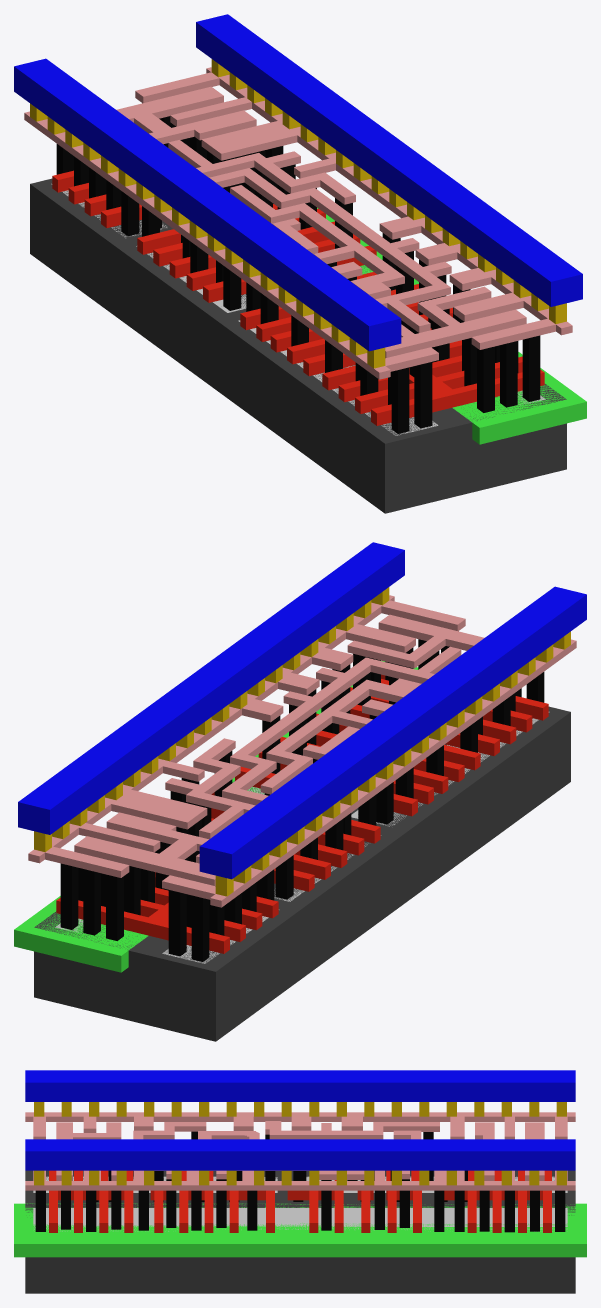
Rendered from sky130_fd_sc_hd__ha_4.obj.
The picture shows the model from 3 angles, top to bottom: view 1: azimuth 30°, elevation 25°; view 2: azimuth 150°, elevation 25°; view 3: azimuth 270°, elevation 25°; orthographic projection. The views are drawn at different scales.
Parts seen in each view (by area): view 1: subs, metal1, li, licon, poly, mcon, nwell, diff; view 2: subs, metal1, li, licon, poly, mcon, nwell, diff; view 3: metal1, subs, li, nwell, poly, licon, mcon, tap, diff.
Part boxes in pixels (<box>): subs: <box>30,178,566,513</box>; metal1: <box>14,14,582,351</box>; li: <box>24,67,572,379</box>; licon: <box>56,116,540,433</box>; poly: <box>52,170,544,425</box>; mcon: <box>30,59,566,368</box>; nwell: <box>317,207,586,444</box>; diff: <box>51,183,438,435</box>; subs: <box>34,706,570,1041</box>; metal1: <box>18,542,586,879</box>; li: <box>28,595,576,907</box>; licon: <box>60,639,544,961</box>; poly: <box>56,674,548,953</box>; mcon: <box>34,587,570,896</box>; nwell: <box>14,660,418,972</box>; diff: <box>162,711,549,963</box>; metal1: <box>25,1070,575,1170</box>; subs: <box>25,1170,575,1293</box>; li: <box>25,1112,575,1190</box>; nwell: <box>14,1203,586,1257</box>; poly: <box>49,1170,551,1232</box>; licon: <box>35,1131,565,1232</box>; mcon: <box>34,1102,566,1185</box>; tap: <box>33,1208,567,1231</box>; diff: <box>33,1176,567,1192</box>.
Bounding box in the file's own units: 3.2 × 2.74 × 9.58.
